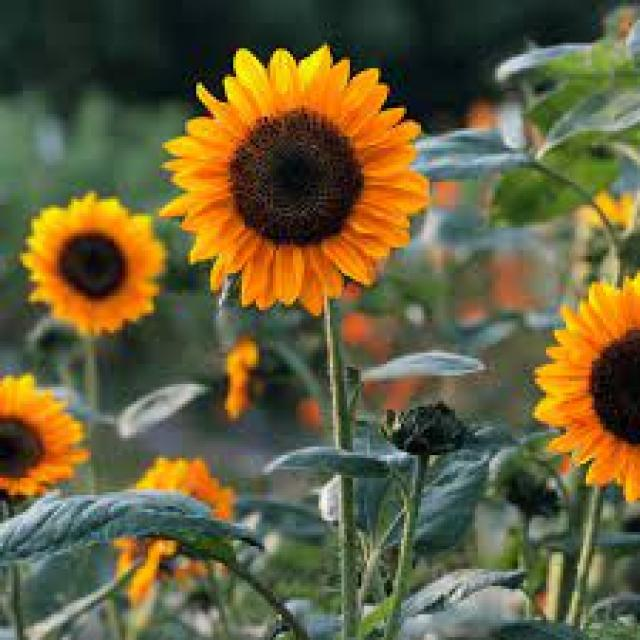sunflower: (156, 42, 430, 316), (532, 270, 640, 500), (20, 192, 165, 336), (111, 456, 236, 608), (0, 372, 88, 500), (224, 336, 266, 418), (588, 188, 638, 230)
